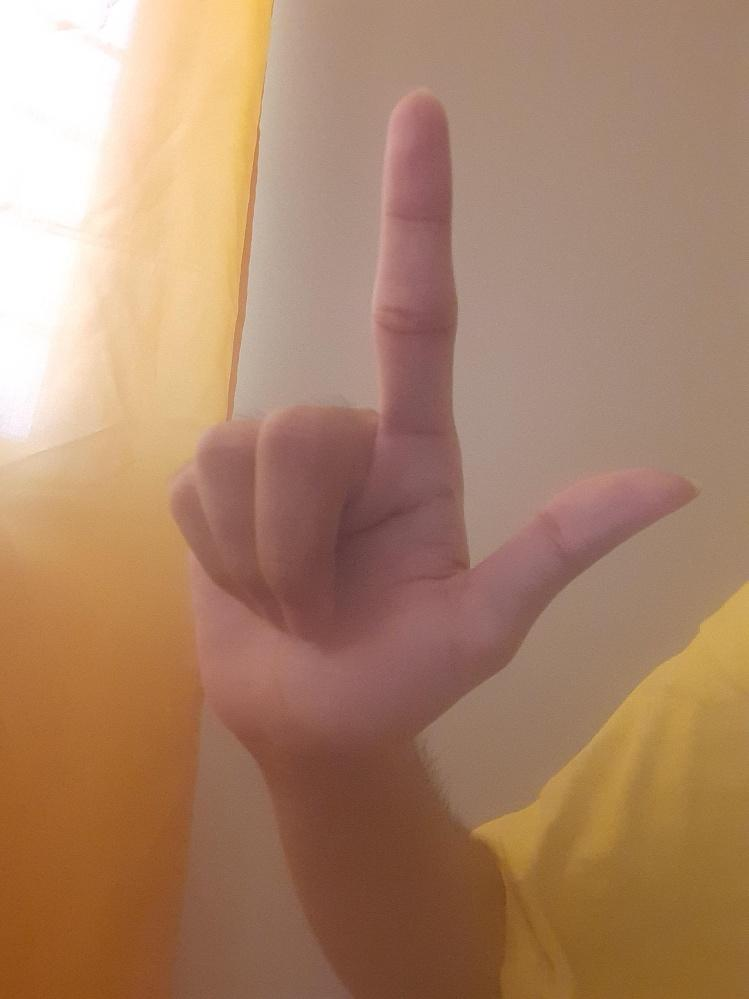l: (166, 89, 698, 739)
